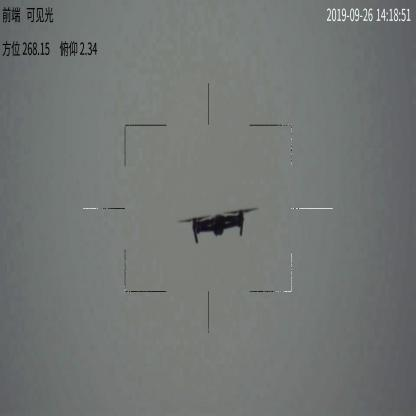uav: (175, 203, 258, 243)
